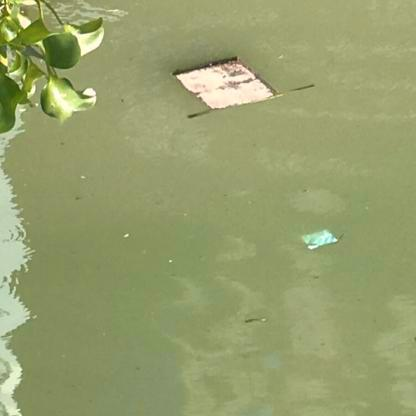Trash: (170, 44, 322, 123), (301, 227, 343, 253)
